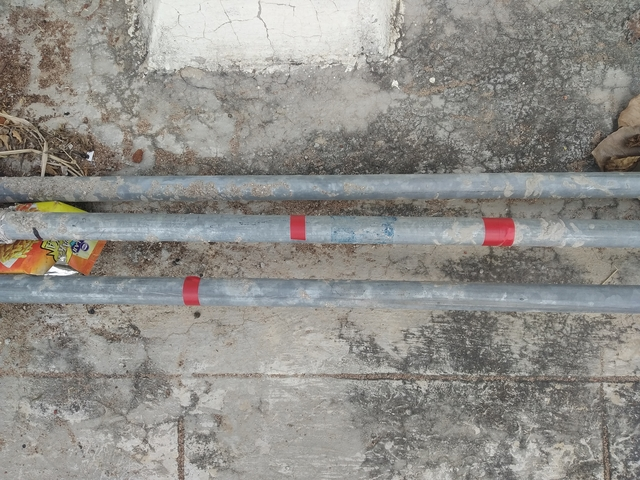rust: (479, 210, 518, 251), (179, 271, 205, 311), (286, 208, 309, 244)
